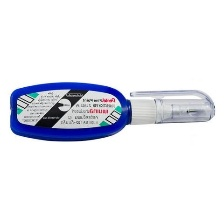correction_fluid: (8, 77, 218, 145)
